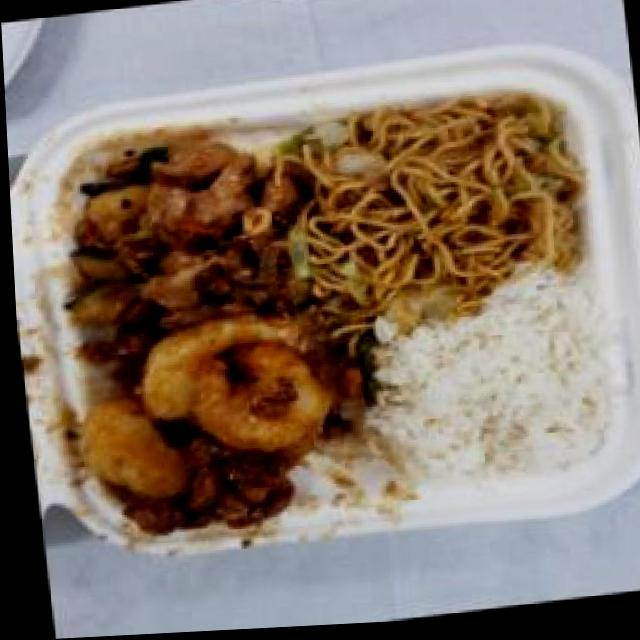Chow Mein: (289, 87, 589, 323)
Honey Walnut Shrimp: (48, 300, 350, 547)
Kung Pao Chicken: (33, 123, 309, 354)
White Steamed Rice: (348, 286, 621, 499)
